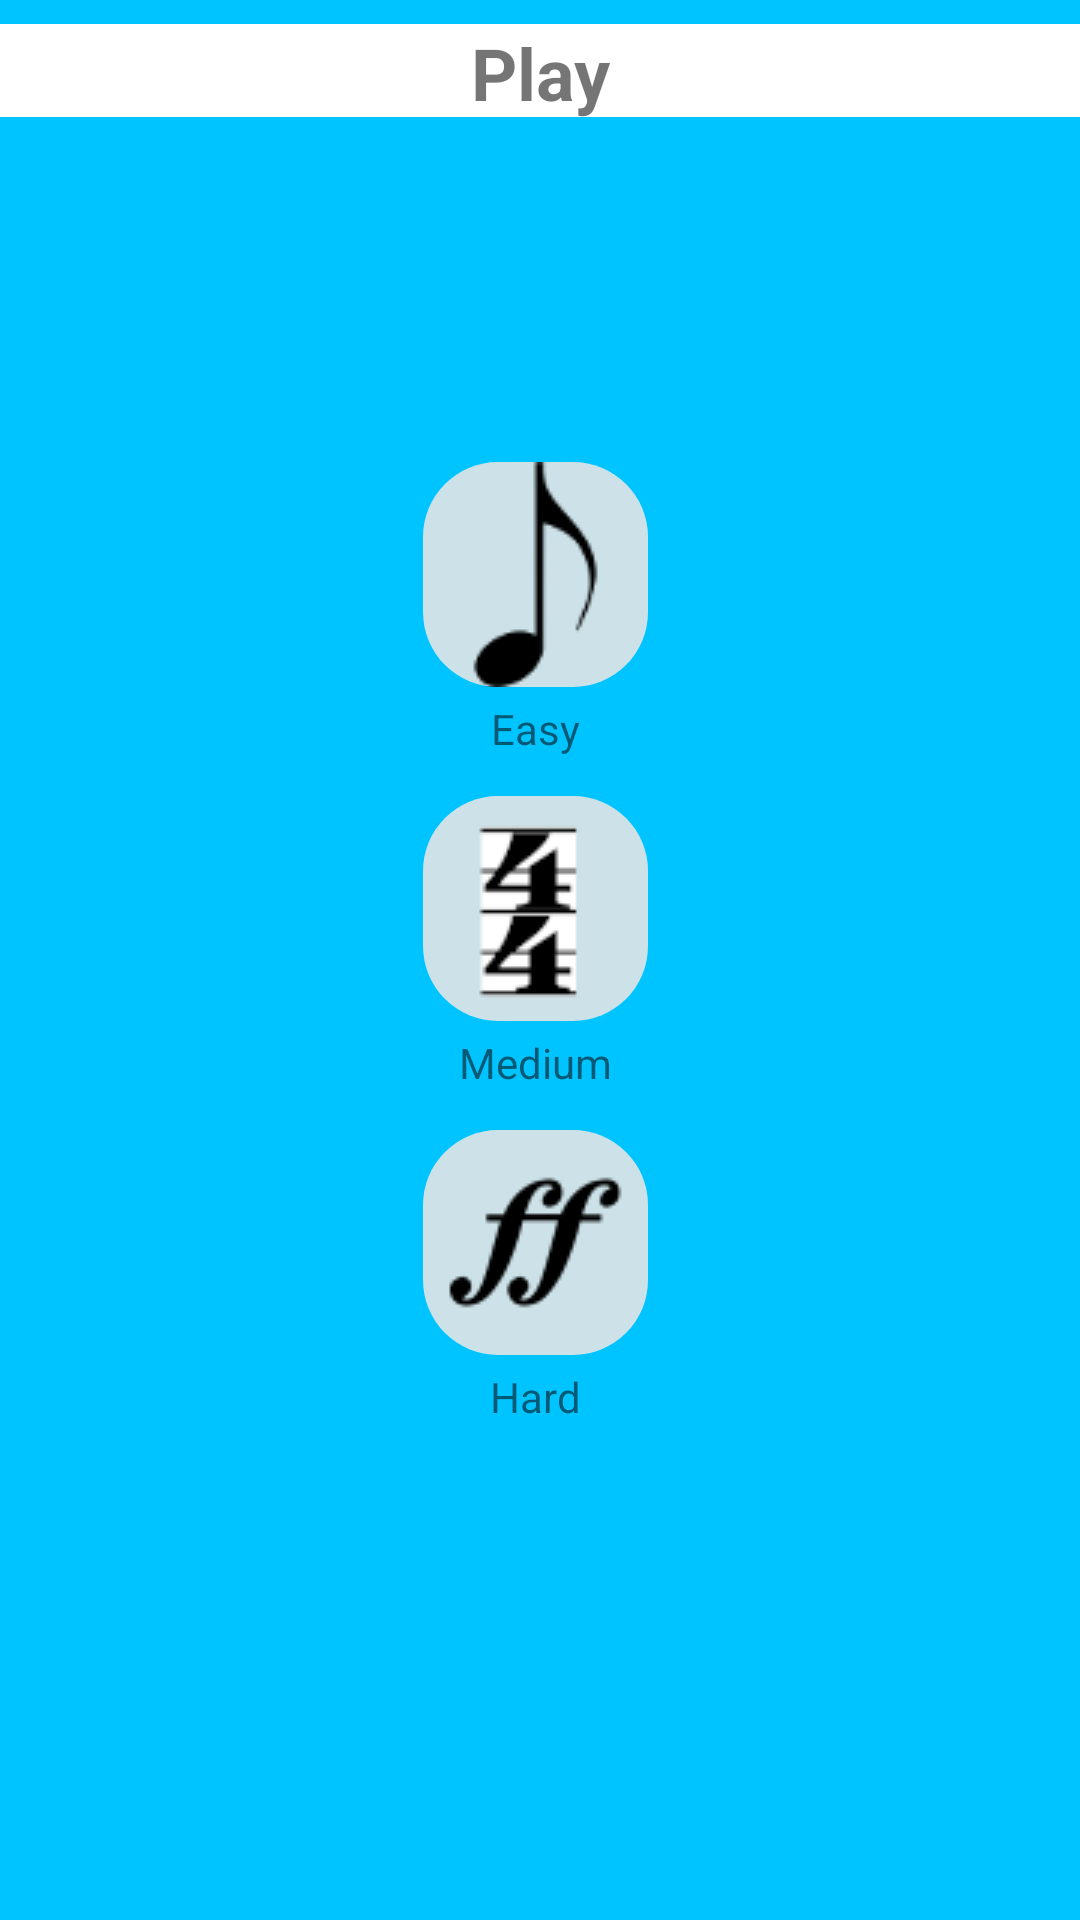

Point at icon controls on the screen. Image size 1080w x 1920h, points as point (x, y).
fortissimo: point (535, 1242)
quaver: point (535, 574)
